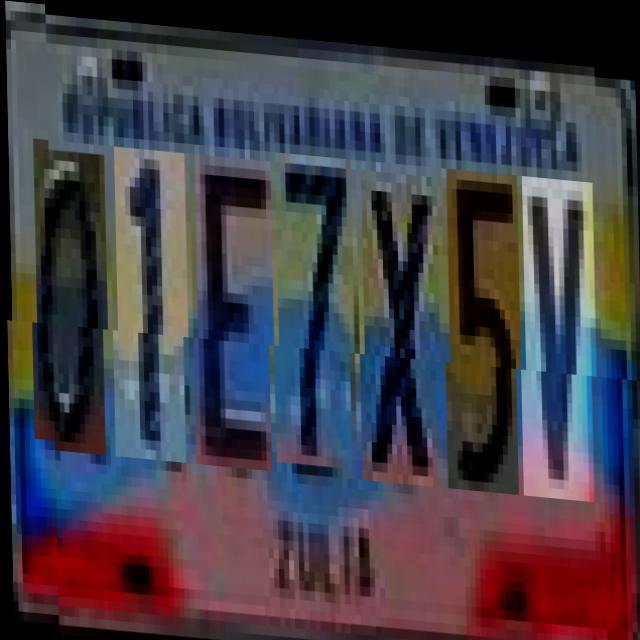1: (113, 144, 189, 460)
5: (446, 160, 522, 485)
7: (274, 146, 356, 462)
E: (194, 150, 275, 467)
O: (32, 148, 108, 454)
V: (522, 165, 598, 490)
X: (360, 163, 441, 479)
